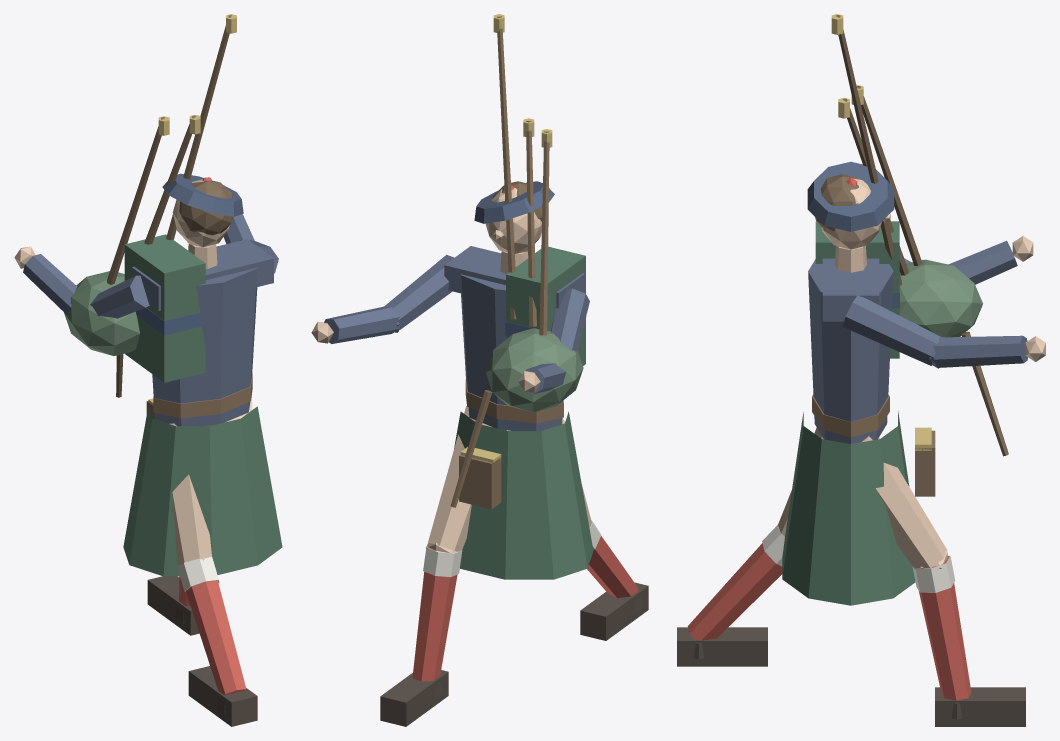
File: piper_marching.glb
3 renders of one model, left to right at view 1: azimuth 30°, elevation 25°; view 2: azimuth 150°, elevation 25°; view 3: azimuth 270°, elevation 25°, orthographic. The views are drawn at different scales.
Parts seen in each view (by area): view 1: tartan_g, wool_navy, skin, boot, hose_red, wood_dk, bag_green, bonnet_blue, leather, hair, tartan_b, hose_white (+1 smaller); view 2: tartan_g, wool_navy, wood_dk, skin, bag_green, hose_red, boot, leather, bonnet_blue, hose_white, brass; view 3: tartan_g, wool_navy, hose_red, skin, boot, bag_green, wood_dk, bonnet_blue, leather, hose_white, brass, hair.
Boxes of the visible parts, x1=… form: tartan_g: x1=123, y1=234, x2=282, y2=576; wool_navy: x1=23, y1=214, x2=278, y2=426; skin: x1=14, y1=179, x2=252, y2=565; boot: x1=147, y1=576, x2=257, y2=726; hose_red: x1=179, y1=576, x2=246, y2=694; wood_dk: x1=107, y1=15, x2=231, y2=397; bag_green: x1=64, y1=271, x2=139, y2=355; bonnet_blue: x1=162, y1=173, x2=243, y2=216; leather: x1=146, y1=374, x2=252, y2=419; hair: x1=179, y1=180, x2=233, y2=235; tartan_b: x1=136, y1=307, x2=203, y2=335; hose_white: x1=177, y1=557, x2=219, y2=591; tartan_g: x1=454, y1=246, x2=593, y2=579; wool_navy: x1=324, y1=246, x2=589, y2=430; wood_dk: x1=450, y1=16, x2=549, y2=507; skin: x1=311, y1=188, x2=591, y2=553; bag_green: x1=485, y1=328, x2=583, y2=412; hose_red: x1=412, y1=536, x2=638, y2=681; boot: x1=380, y1=582, x2=648, y2=726; leather: x1=459, y1=379, x2=563, y2=509; bonnet_blue: x1=474, y1=181, x2=554, y2=223; hose_white: x1=423, y1=520, x2=601, y2=577; brass: x1=460, y1=14, x2=552, y2=462; tartan_g: x1=782, y1=221, x2=915, y2=605; wool_navy: x1=808, y1=240, x2=1027, y2=443; hose_red: x1=687, y1=543, x2=971, y2=700; skin: x1=777, y1=178, x2=1045, y2=569; boot: x1=677, y1=627, x2=1025, y2=726; bag_green: x1=899, y1=259, x2=982, y2=337; wood_dk: x1=836, y1=15, x2=1008, y2=456; bonnet_blue: x1=807, y1=161, x2=894, y2=231; leather: x1=812, y1=394, x2=935, y2=496; hose_white: x1=762, y1=525, x2=955, y2=592; brass: x1=831, y1=14, x2=931, y2=450; hair: x1=815, y1=174, x2=858, y2=231.
Bounding box in the file's own units: 0.7991 × 2.27 × 1.09.
